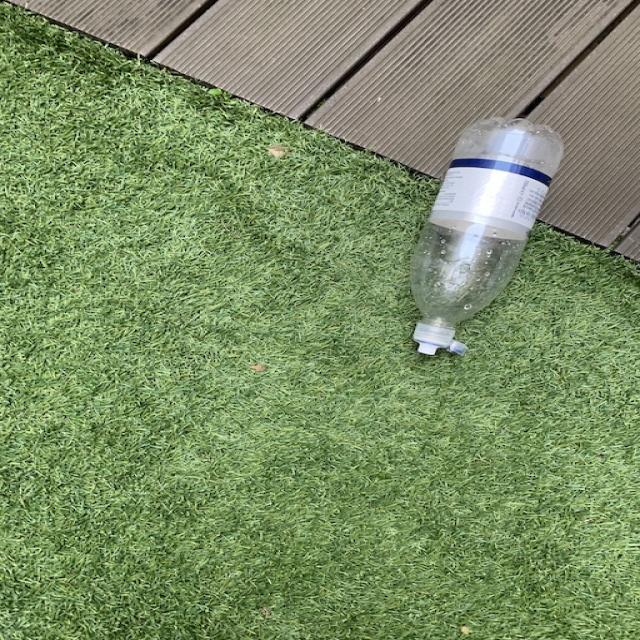plastic_bottle: (409, 118, 564, 355)
